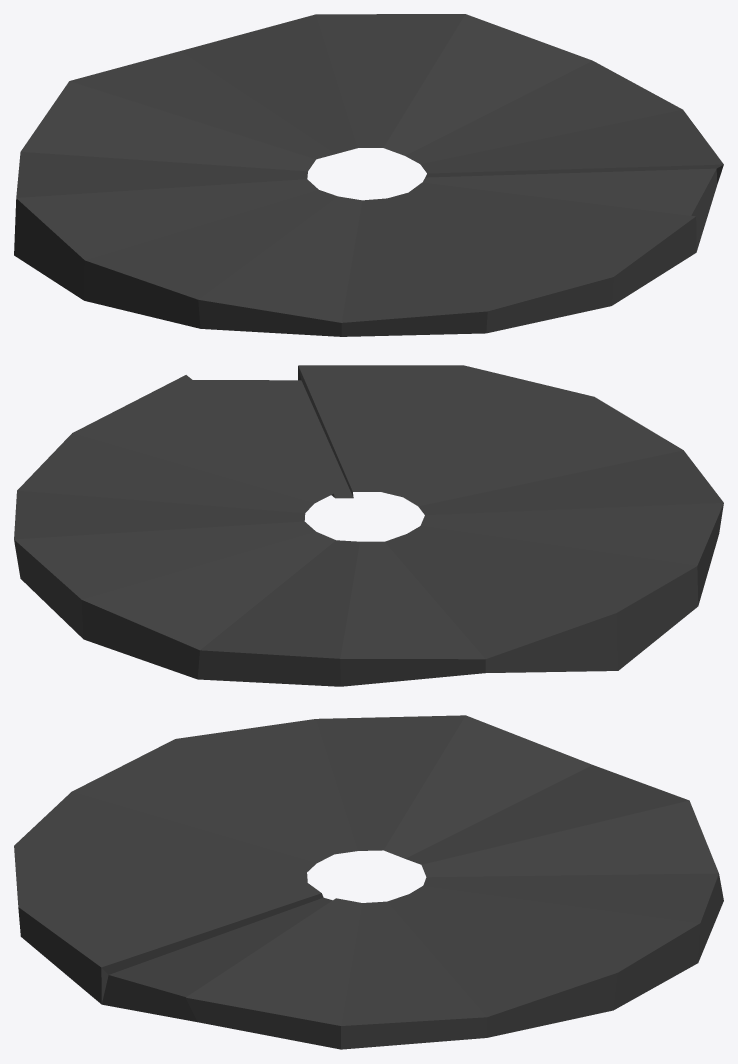
File: Arena.fbx
3 views of the same model, one above another, from view 1: azimuth 30°, elevation 25°; view 2: azimuth 150°, elevation 25°; view 3: azimuth 270°, elevation 25° (orthographic).
Visible parts, largest first — view 1: Arena; view 2: Arena; view 3: Arena.
Part boxes in pixels (<box>): Arena: <box>14,14,723,336</box>; Arena: <box>14,365,723,686</box>; Arena: <box>14,715,723,1049</box>.
Bounding box in the file's own units: 983 × 88.46 × 982.
Materials: 1 (1 with a texture image).
